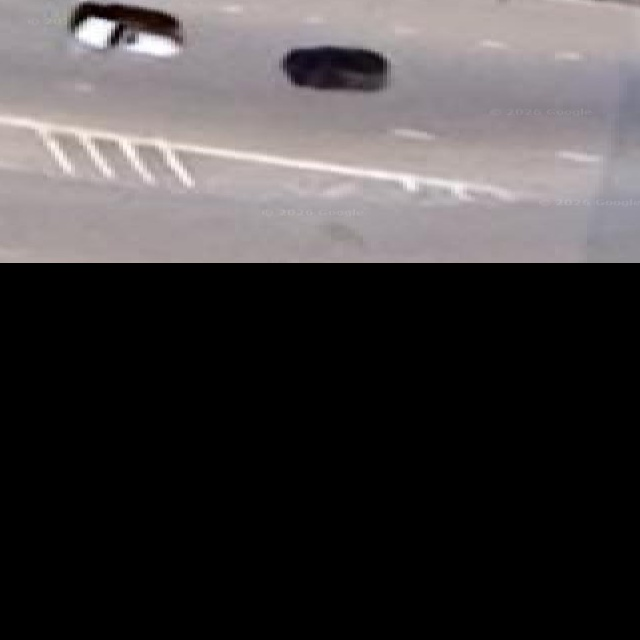car: (69, 3, 183, 57), (283, 47, 388, 91)
